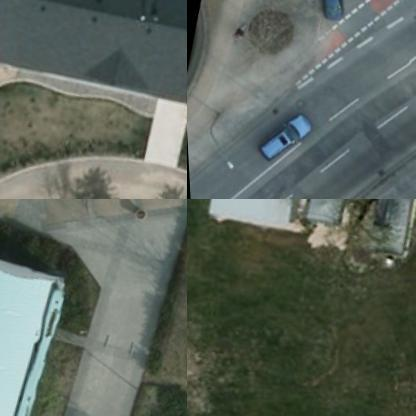camping car: (355, 199, 415, 262), (299, 199, 359, 230)
car: (251, 103, 319, 170), (298, 0, 369, 27)
